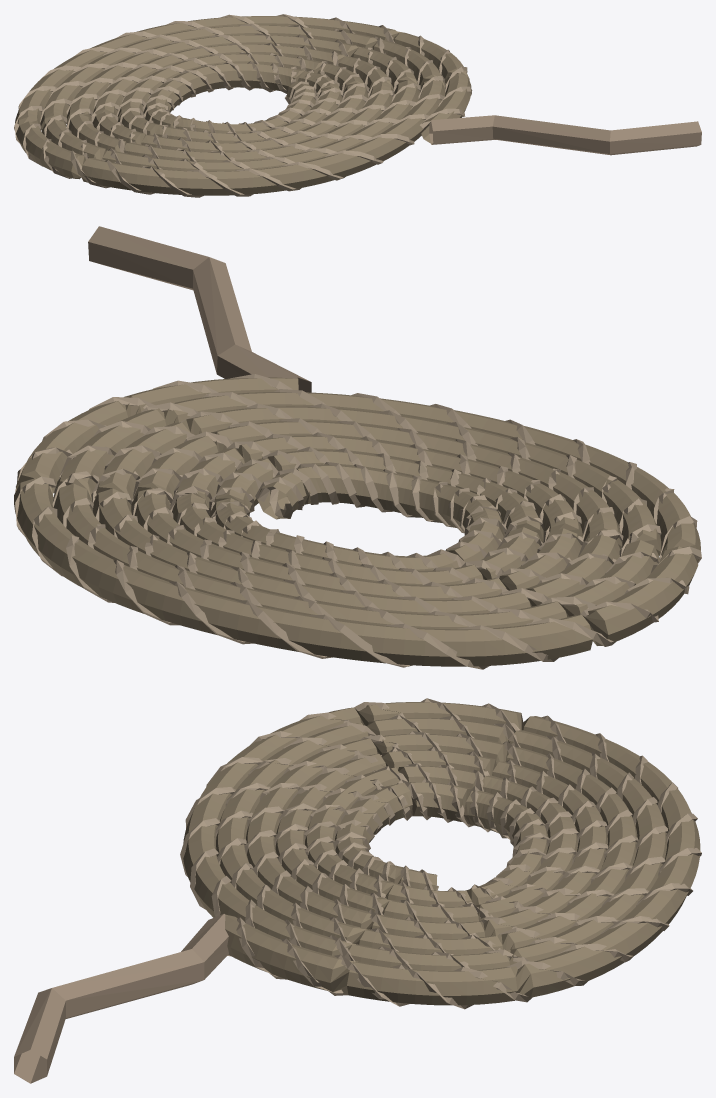
File: laid_line.glb
3 views of the same model, one above another, from view 1: azimuth 30°, elevation 25°; view 2: azimuth 150°, elevation 25°; view 3: azimuth 270°, elevation 25° (orthographic). The views are drawn at different scales.
Parts seen in each view (by area): view 1: laid_line; view 2: laid_line; view 3: laid_line.
Boxes of the visible parts, x1=… form: laid_line: x1=14, y1=14, x2=701, y2=197; laid_line: x1=14, y1=226, x2=701, y2=669; laid_line: x1=14, y1=698, x2=701, y2=1083.
Bounding box in the file's own units: 0.7896 × 0.0508 × 0.6398.
